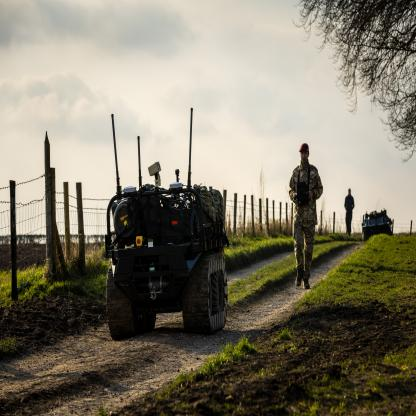Person: (290, 141, 324, 290), (344, 186, 354, 237)
UGV: (107, 107, 227, 337)
